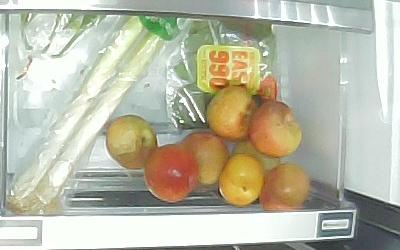prune: (144, 144, 199, 202), (206, 84, 260, 141), (248, 101, 303, 156), (107, 115, 158, 169), (180, 132, 230, 185), (219, 155, 264, 205), (261, 164, 308, 210), (231, 139, 281, 177)
